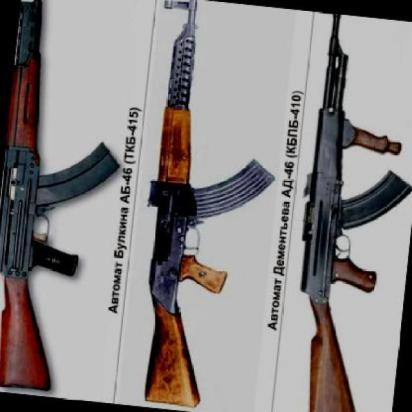Gun: (116, 0, 286, 411), (275, 11, 412, 412), (0, 0, 138, 396)
